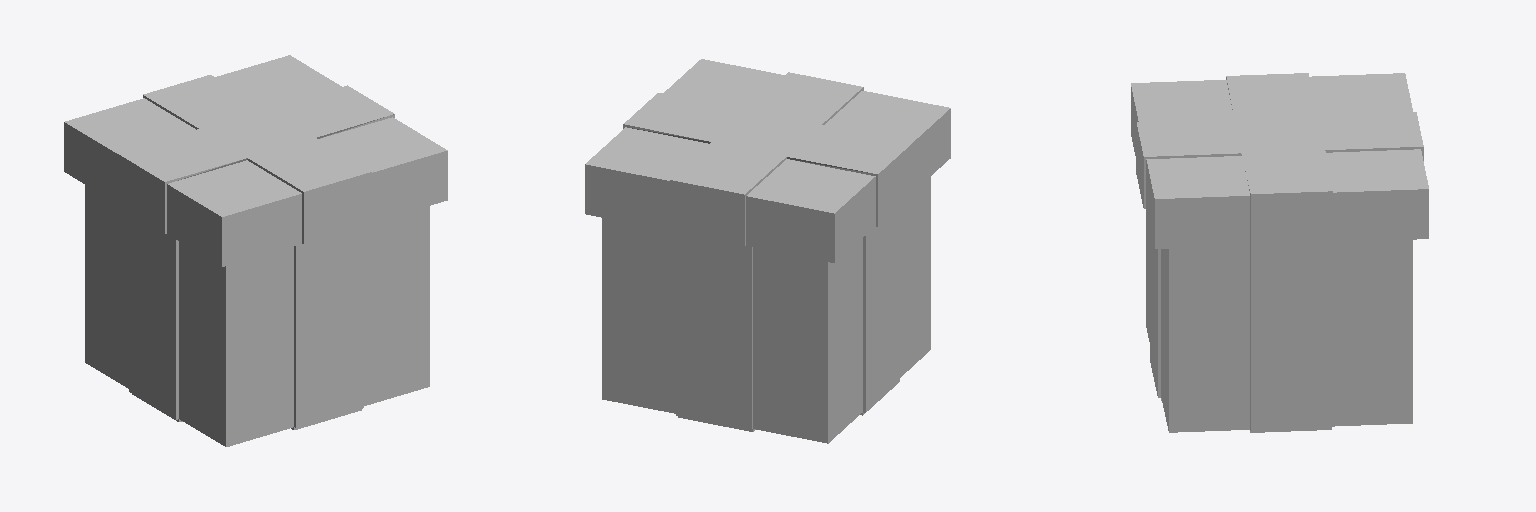
3 renders of one model, left to right at view 1: azimuth 30°, elevation 25°; view 2: azimuth 150°, elevation 25°; view 3: azimuth 270°, elevation 25°, orthographic.
Visible parts, largest first — view 1: Caixa_1.003_Cube.007, Tampa_1.003_Plane.006; view 2: Caixa_1.003_Cube.007, Tampa_1.003_Plane.006; view 3: Caixa_1.003_Cube.007, Tampa_1.003_Plane.006.
Part boxes in pixels (x1,y1,x2,y2): Caixa_1.003_Cube.007: (85, 185, 429, 446); Tampa_1.003_Plane.006: (64, 55, 447, 266); Caixa_1.003_Cube.007: (602, 177, 930, 443); Tampa_1.003_Plane.006: (585, 59, 950, 262); Caixa_1.003_Cube.007: (1146, 209, 1412, 432); Tampa_1.003_Plane.006: (1131, 73, 1428, 248).
Size of the model in its own units: 0.3792 by 0.3428 by 0.3792.